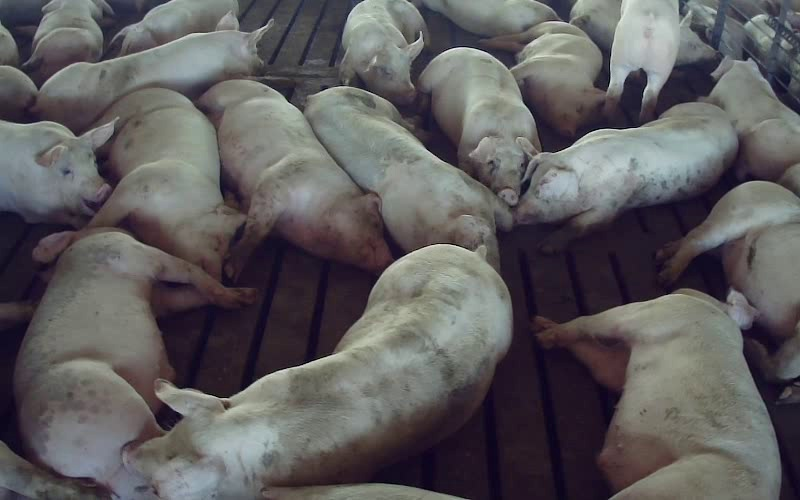pig: (125, 244, 510, 499), (14, 228, 254, 499), (534, 289, 780, 499), (199, 80, 391, 278), (304, 87, 511, 269), (515, 102, 737, 252), (90, 89, 244, 278), (33, 12, 273, 132), (659, 181, 799, 382), (418, 47, 540, 205), (481, 21, 605, 136), (701, 58, 799, 180), (340, 0, 428, 104)
